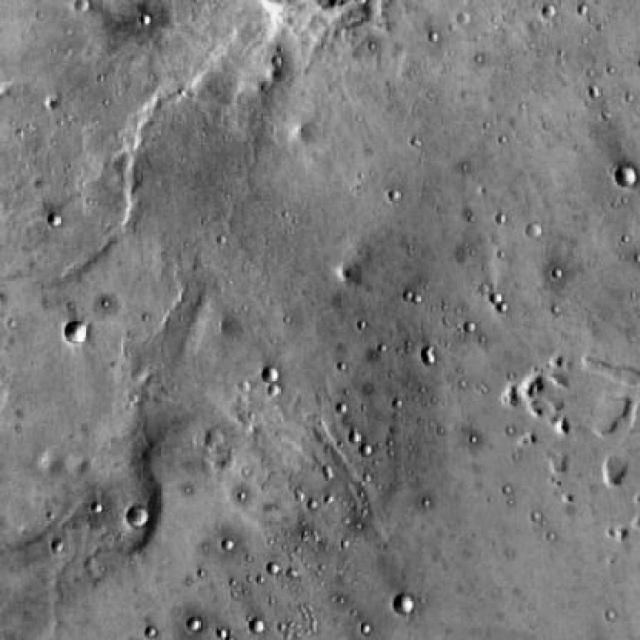crater: (62, 318, 89, 344), (392, 594, 416, 618), (128, 505, 150, 526), (617, 166, 640, 186), (527, 220, 544, 237), (262, 366, 280, 382), (248, 620, 266, 635)
